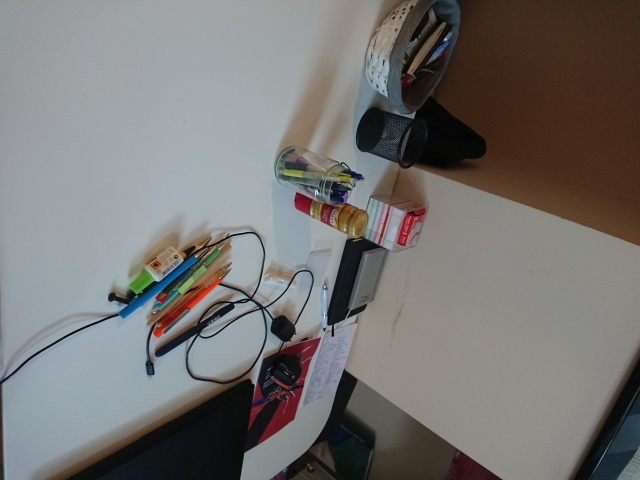Kotanyi Curry Spices Mix 70g: (293, 184, 370, 241)
